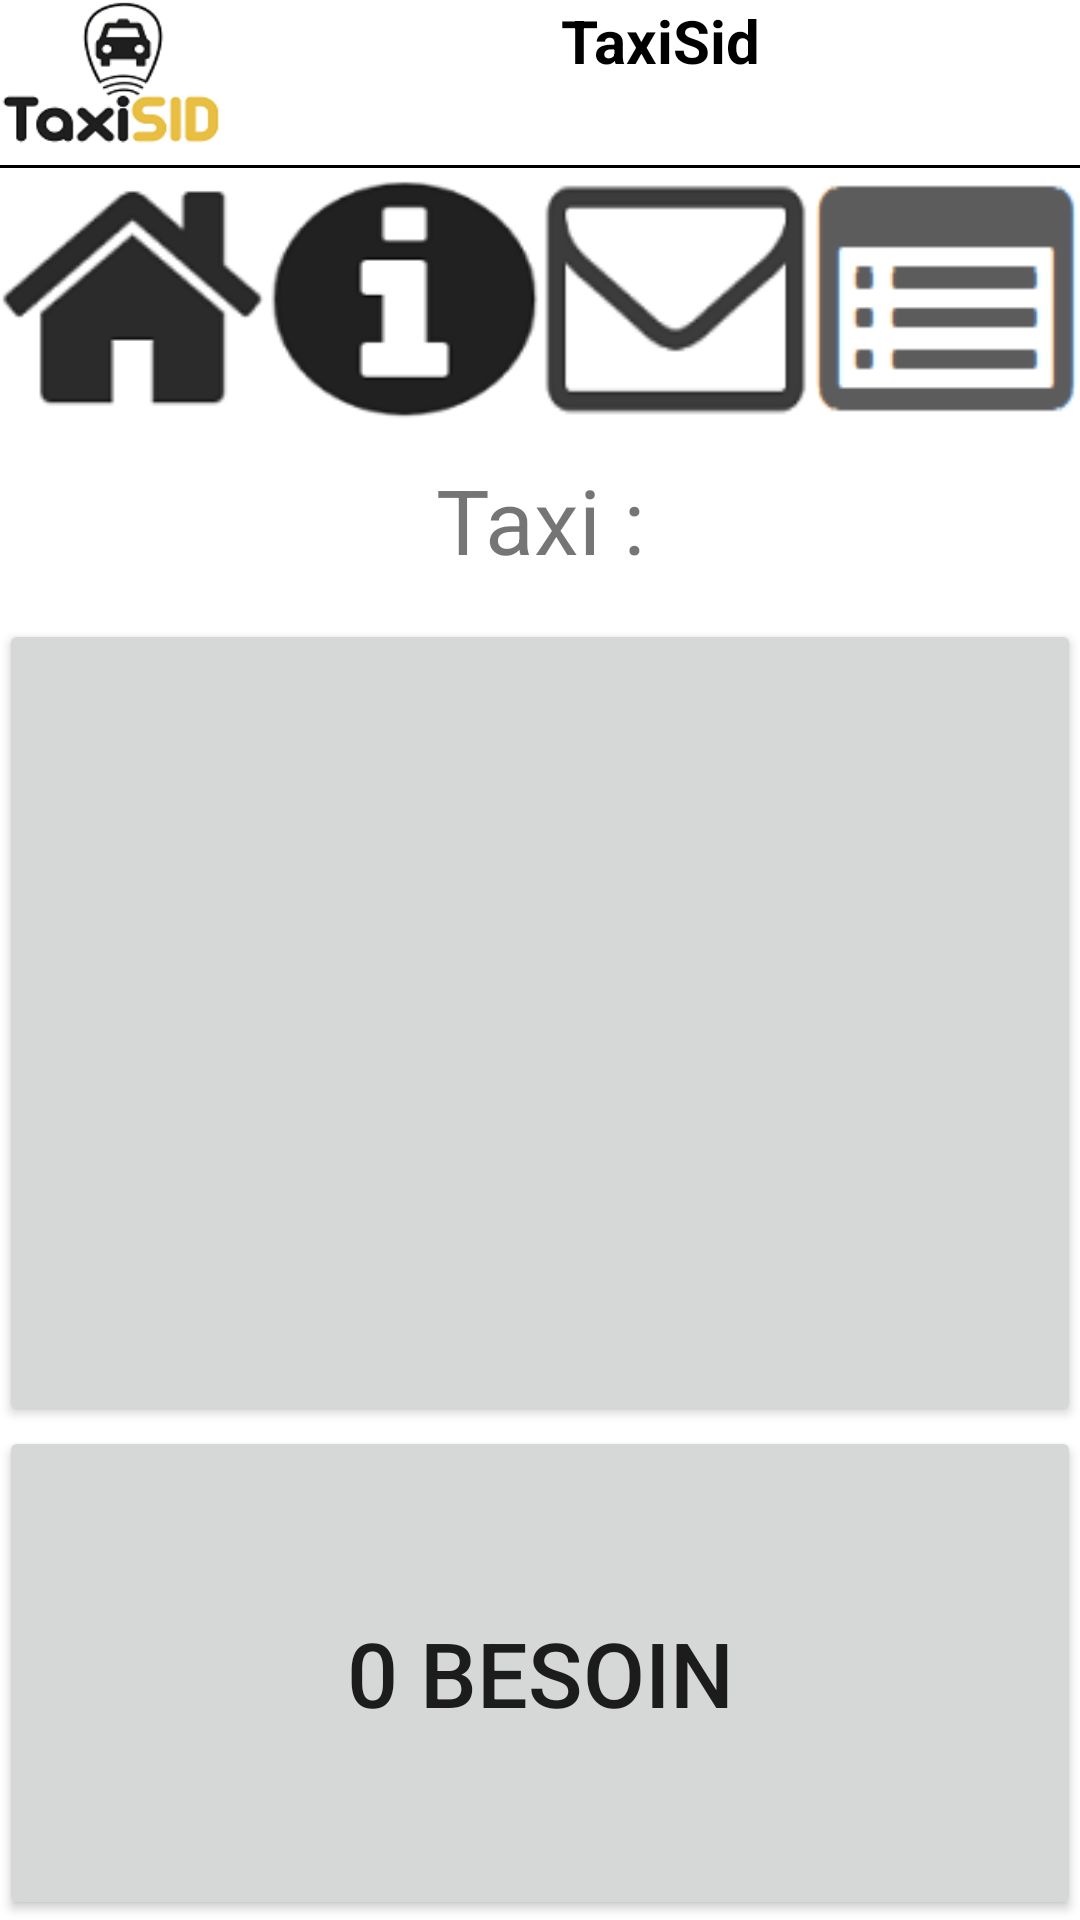

Screen size 1080 × 1920. Icon name, then its center in pixels as (x=x, y=y):
enveloppe: (x=675, y=299)
home: (x=132, y=298)
